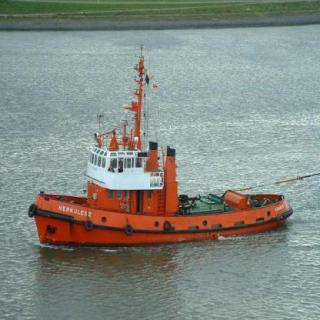Tug Boat: (26, 49, 293, 242)
